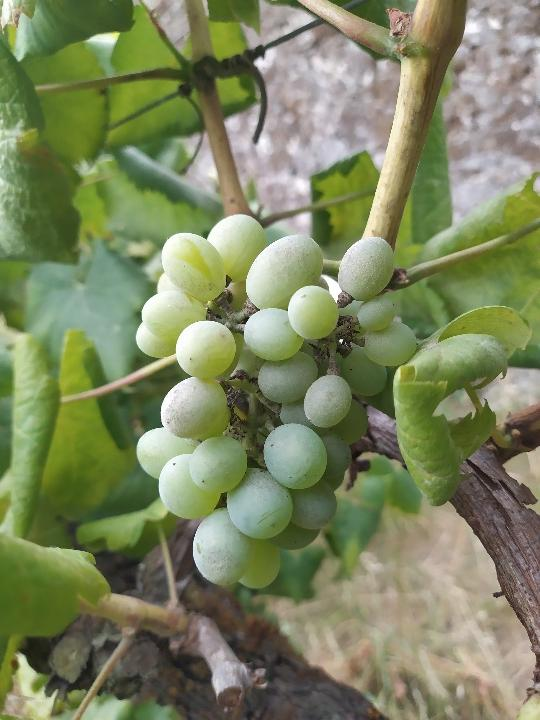grape: (132, 211, 421, 593)
